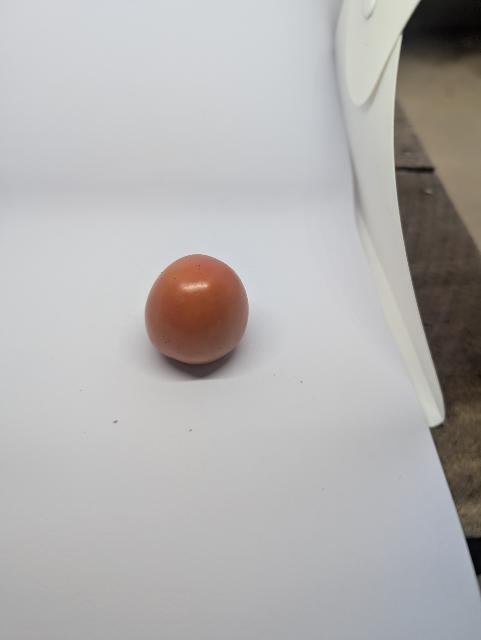red: (124, 241, 270, 378)
